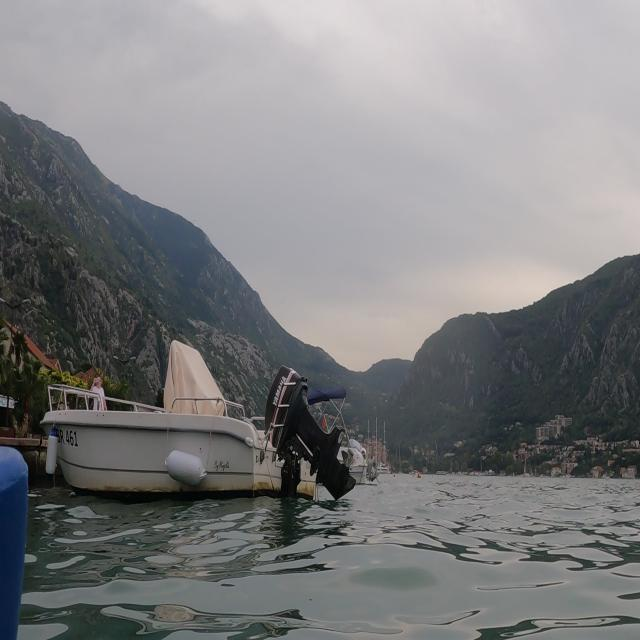boat: (39, 336, 368, 506)
